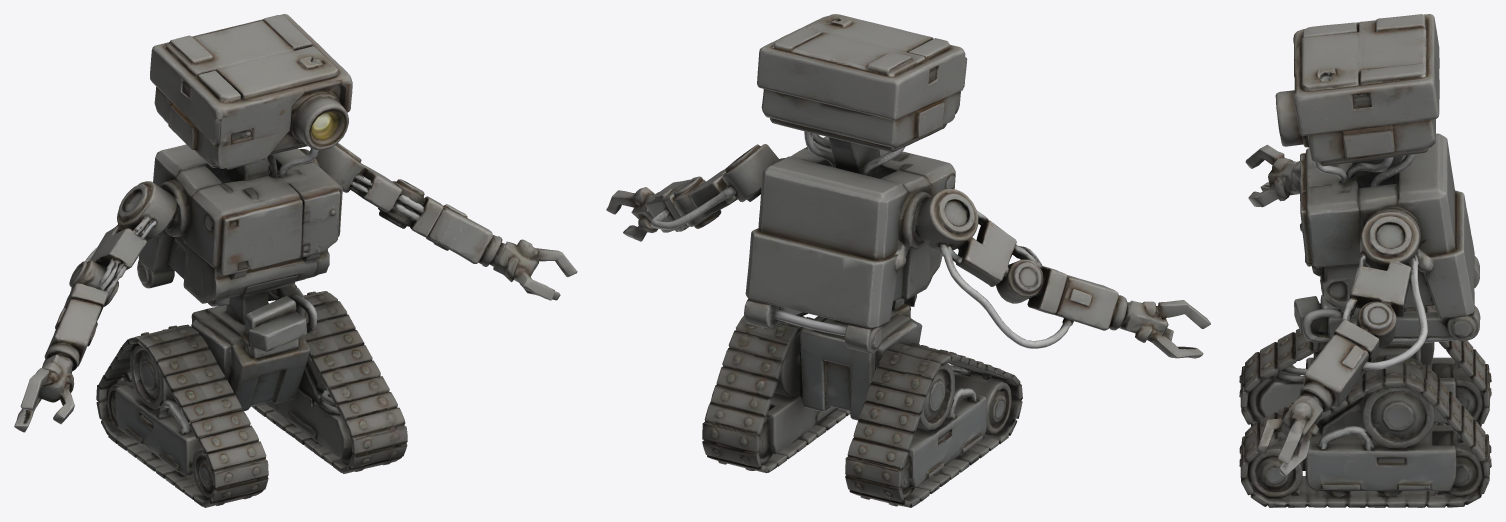
Rendered from gasket.glb.
The picture shows the model from 3 angles, left to right: view 1: azimuth 30°, elevation 25°; view 2: azimuth 150°, elevation 25°; view 3: azimuth 270°, elevation 25°; orthographic projection. The views are drawn at different scales.
Parts seen in each view (by area): view 1: tripo_node_84cafd08-a7e0-462e-a0a8-3f2e9927dd5a; view 2: tripo_node_84cafd08-a7e0-462e-a0a8-3f2e9927dd5a; view 3: tripo_node_84cafd08-a7e0-462e-a0a8-3f2e9927dd5a.
Boxes of the visible parts, box(x1,y1,x2,y2) form: tripo_node_84cafd08-a7e0-462e-a0a8-3f2e9927dd5a: box(14, 14, 577, 507); tripo_node_84cafd08-a7e0-462e-a0a8-3f2e9927dd5a: box(606, 14, 1210, 507); tripo_node_84cafd08-a7e0-462e-a0a8-3f2e9927dd5a: box(1239, 14, 1491, 507).
Size of the model in its own units: 1 by 0.6782 by 0.3687.
1 material, 1 textured.
